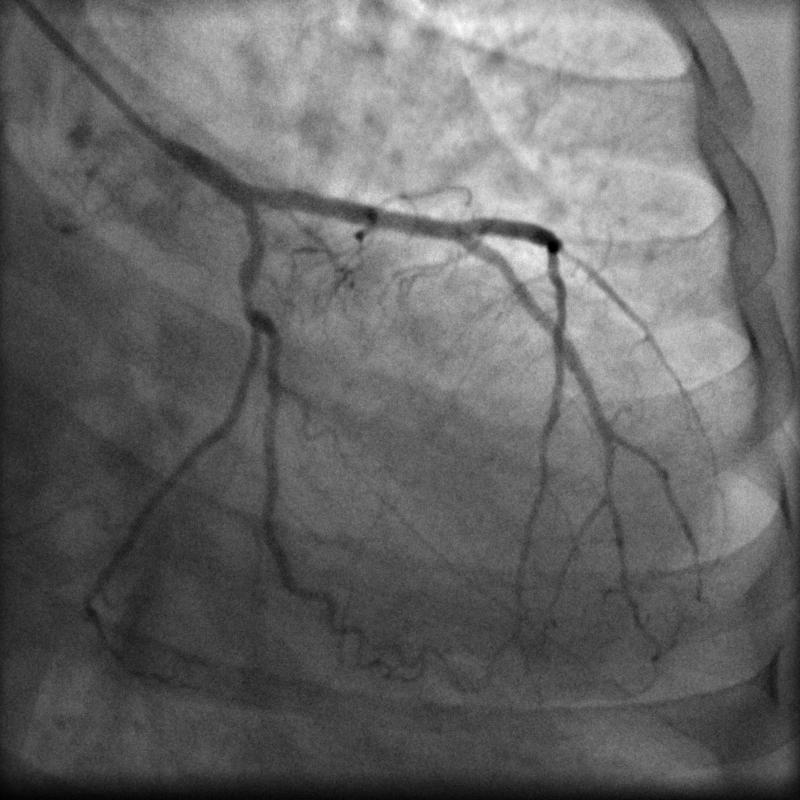Stenosis: (228, 270, 278, 319)
